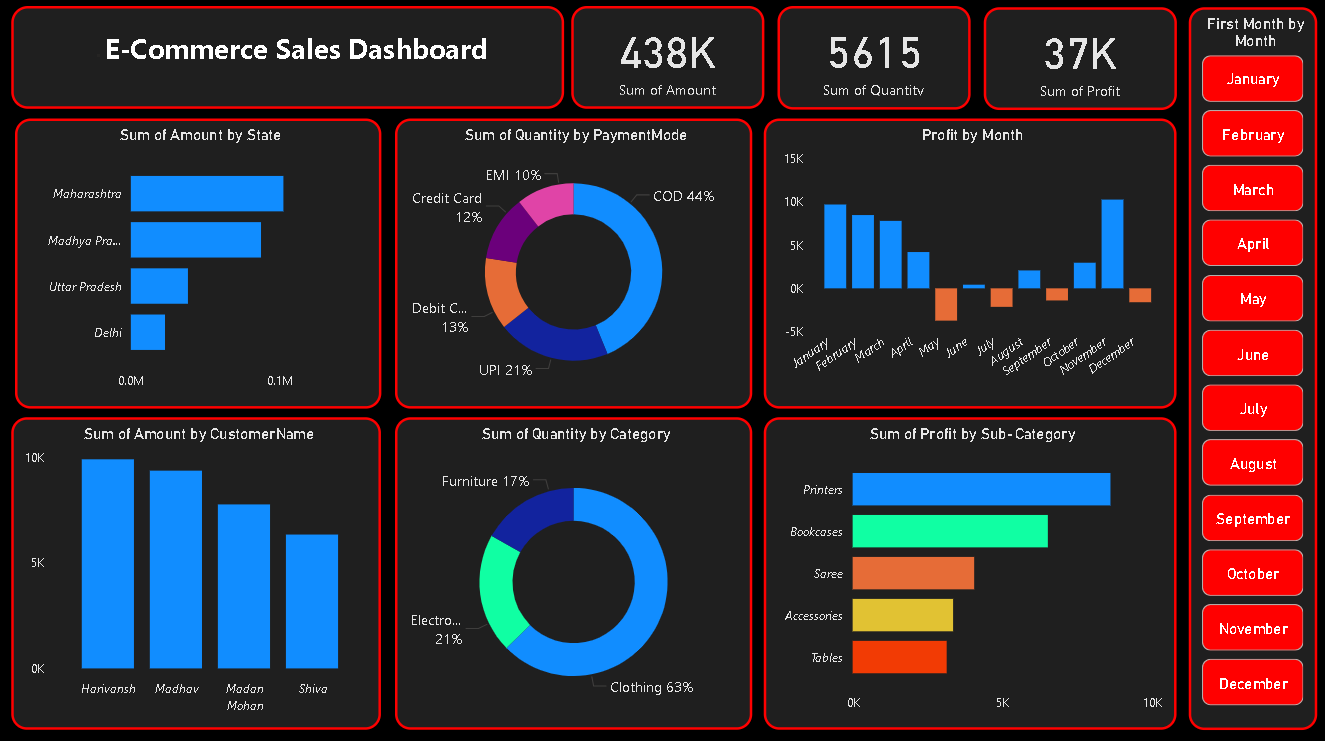

The page's visual inventory and layout, read from the dashboard file:
{"tool":"powerbi","page":{"name":"Page 1","canvas":[1280,720],"ordinal":0},"visuals":[{"type":"textbox","box":[11.3,10,533.3,99.3],"z":0},{"type":"columnChart","title":"Profit by Month","fields":{"Y":["Details.Profit"],"Category":["Orders.Order Date.Variation.Date Hierarchy.Month"]},"box":[737.1,118.2,398.1,279.9],"z":1000},{"type":"barChart","fields":{"Category":["Details.Sub-Category"],"Y":["Details.Profit"]},"box":[737.1,406.6,398.1,301.6],"z":2000},{"type":"donutChart","fields":{"Category":["Details.Category"],"Y":["Details.Quantity"]},"box":[381.2,406.6,345,301.6],"z":3000},{"type":"donutChart","fields":{"Category":["Details.PaymentMode"],"Y":["Details.Quantity"]},"box":[381.2,118.2,345,279.9],"z":4000},{"type":"card","fields":{"Values":["Details.Amount"]},"box":[551,10,186,99],"z":5000},{"type":"card","fields":{"Values":["Details.Quantity"]},"box":[750,10,186,100],"z":6000},{"type":"card","fields":{"Values":["Details.Profit"]},"box":[949,11,186,99],"z":7000},{"type":"barChart","fields":{"Category":["Orders.State"],"Y":["Details.Amount"]},"box":[14.5,118.2,353.5,279.9],"z":9000},{"type":"columnChart","fields":{"Category":["Orders.CustomerName"],"Y":["Details.Amount"]},"box":[10.9,406.6,357.1,301.6],"z":10000},{"type":"advancedSlicerVisual","fields":{"Values":["Orders.Order Date.Variation.Date Hierarchy.Month"]},"box":[1147.3,10.9,124.3,697.3],"z":11000}]}

Visuals, with their boxes in screenshot pixels (x1, y1, x2, y2), scaled from the page's 1280x720 canvas onto the 1325x741 screenshot:
textbox: BBox(12, 10, 564, 112)
"Profit by Month" columnChart: BBox(763, 122, 1175, 410)
barChart - Details.Sub-Category x Details.Profit: BBox(763, 418, 1175, 729)
donutChart - Details.Category x Details.Quantity: BBox(395, 418, 752, 729)
donutChart - Details.PaymentMode x Details.Quantity: BBox(395, 122, 752, 410)
card - Details.Amount: BBox(570, 10, 763, 112)
card - Details.Quantity: BBox(776, 10, 969, 113)
card - Details.Profit: BBox(982, 11, 1175, 113)
barChart - Orders.State x Details.Amount: BBox(15, 122, 381, 410)
columnChart - Orders.CustomerName x Details.Amount: BBox(11, 418, 381, 729)
advancedSlicerVisual - Orders.Order Date.Variation.Date Hierarchy.Month: BBox(1188, 11, 1316, 729)
